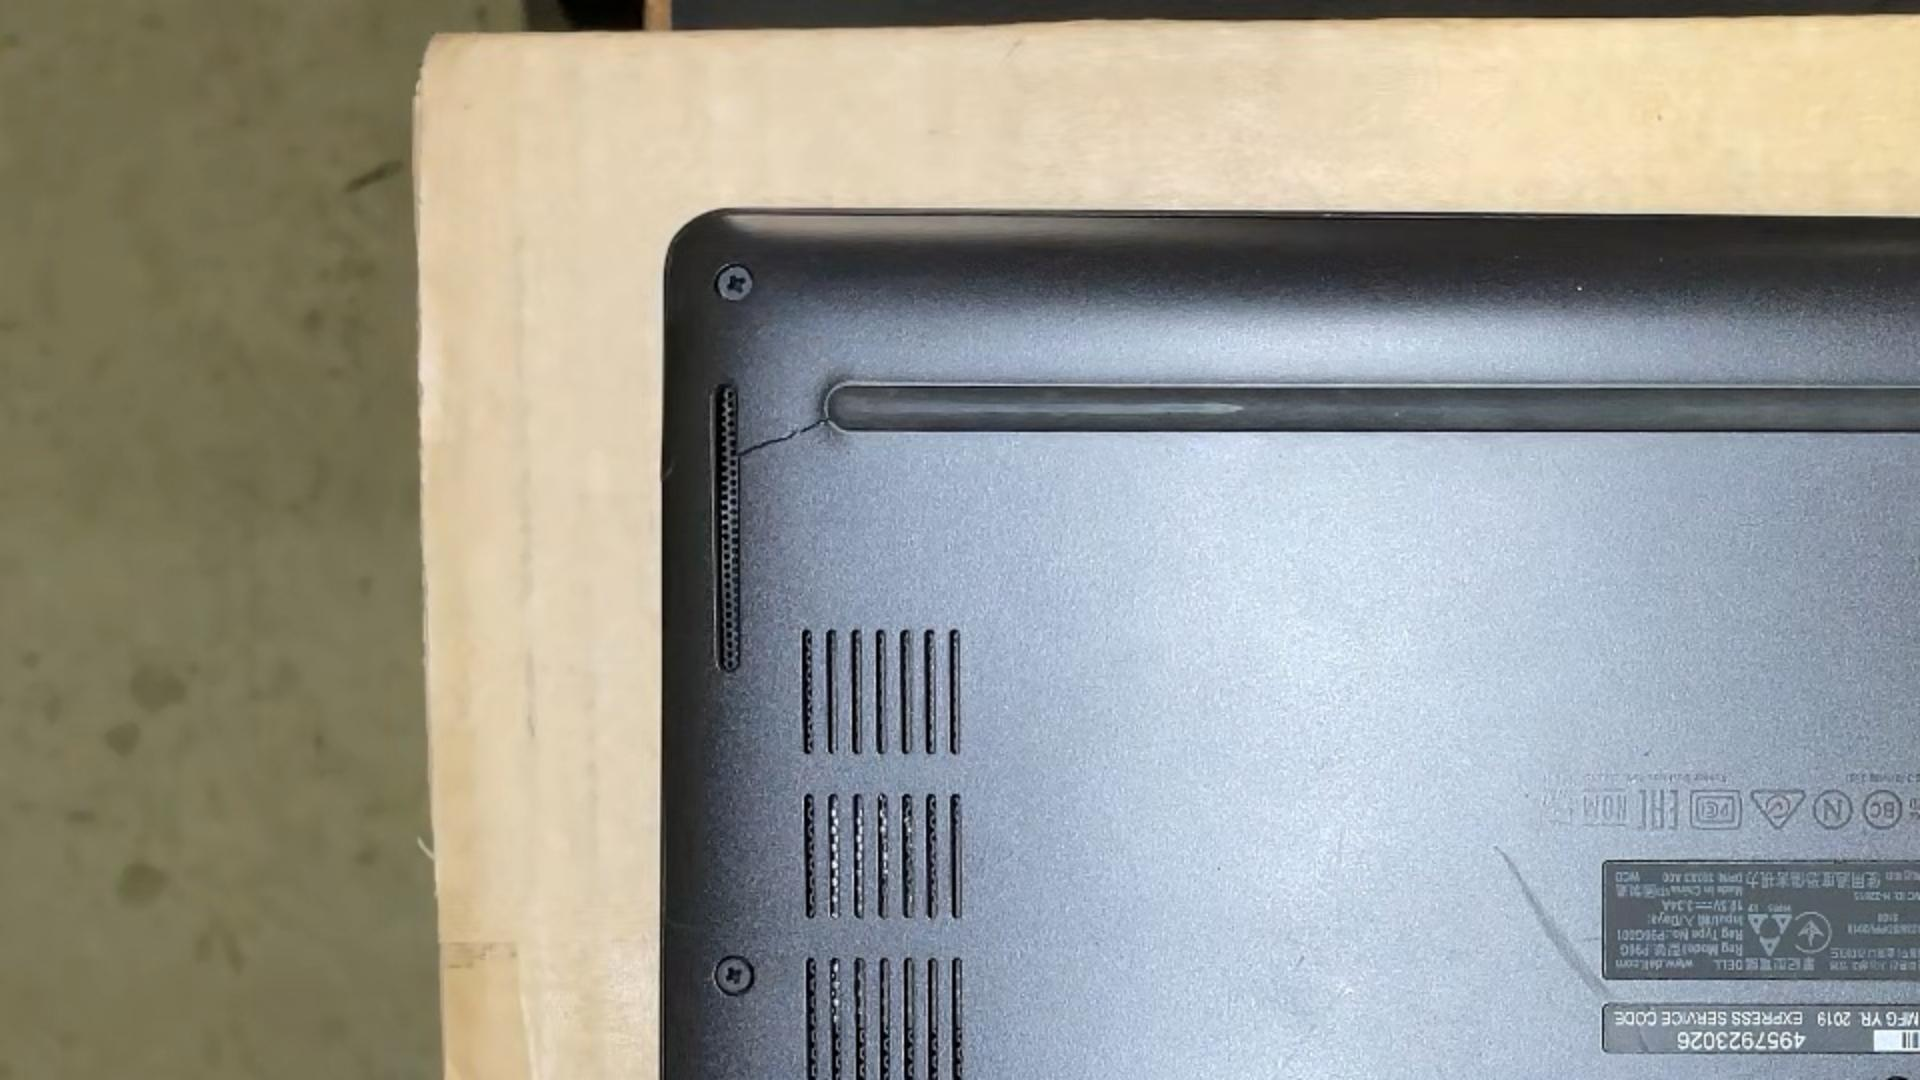chip: (1575, 285, 1585, 293)
scratches: (1490, 847, 1602, 996), (1265, 982, 1350, 1080), (737, 415, 831, 460), (1290, 952, 1307, 975)
